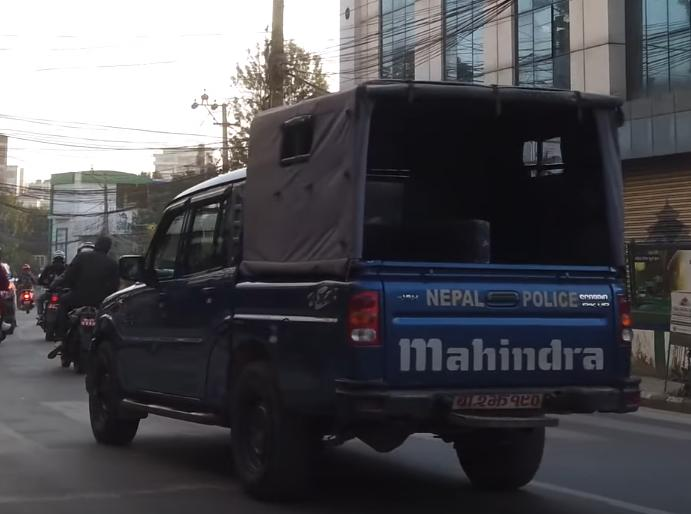police_vehicle: (81, 70, 654, 494)
